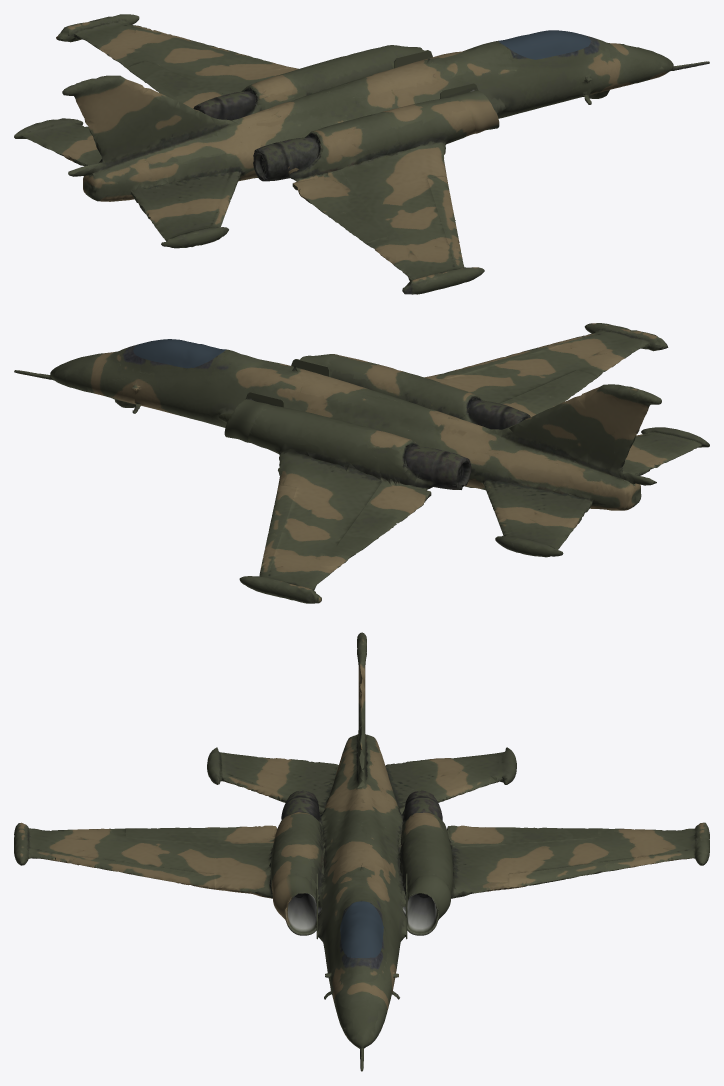
The model's file is fh_battle_attacker_1.glb.
3 views of the same model, one above another, from view 1: azimuth 30°, elevation 25°; view 2: azimuth 150°, elevation 25°; view 3: azimuth 270°, elevation 25° (orthographic).
Visible parts, largest first — view 1: fh_battle_attacker_1; view 2: fh_battle_attacker_1; view 3: fh_battle_attacker_1.
Part boxes in pixels (bbox=[...]): fh_battle_attacker_1: bbox=[14, 14, 709, 294]; fh_battle_attacker_1: bbox=[14, 323, 709, 603]; fh_battle_attacker_1: bbox=[14, 632, 709, 1071].
Size of the model in its own units: 0.9988 by 0.211 by 0.944.
Materials: 2 (1 with a texture image).
